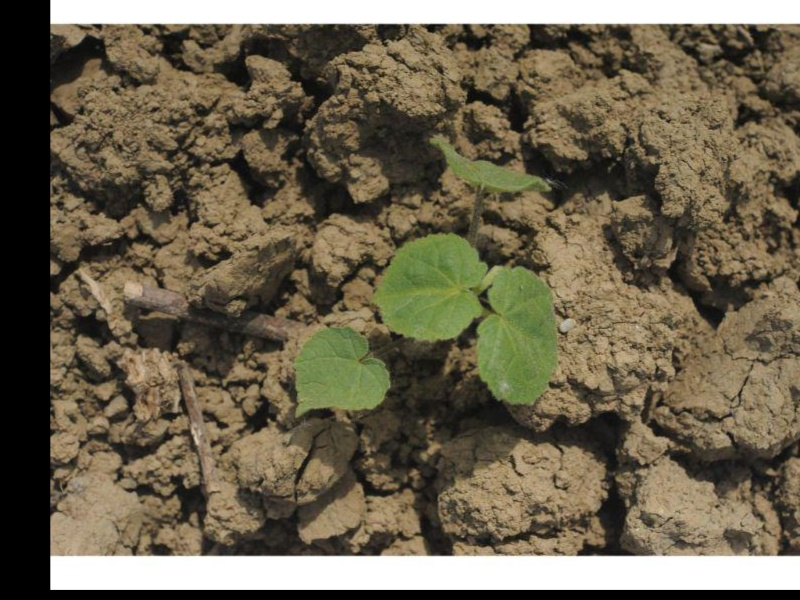velvet: (292, 136, 558, 421)
